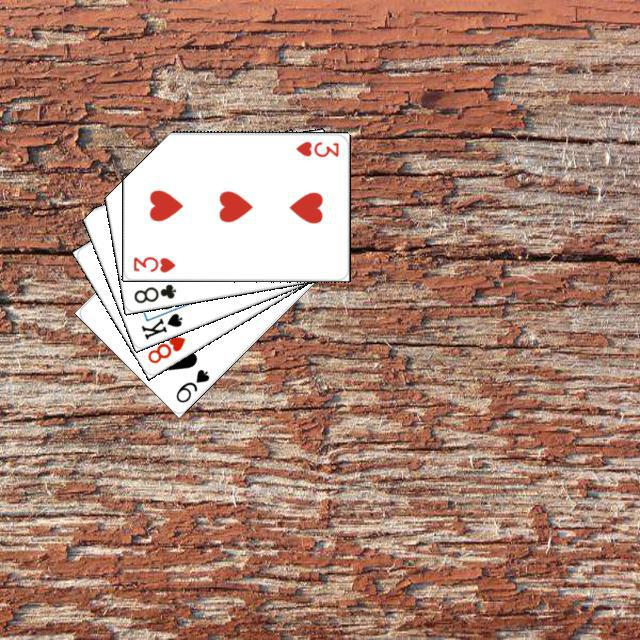3h: (128, 252, 177, 274), (291, 136, 340, 158)
8c: (129, 279, 178, 305)
8h: (142, 331, 187, 365)
9s: (170, 364, 211, 405)
Ks: (136, 308, 184, 341)
